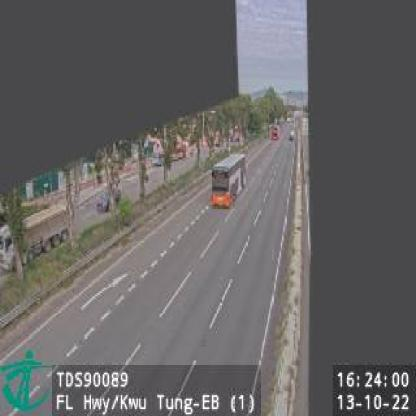Bus: (212, 153, 248, 209)
Car: (271, 126, 281, 141)
